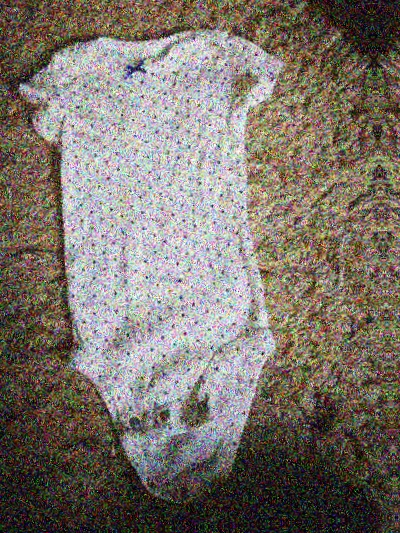Body: (5, 12, 313, 503)
